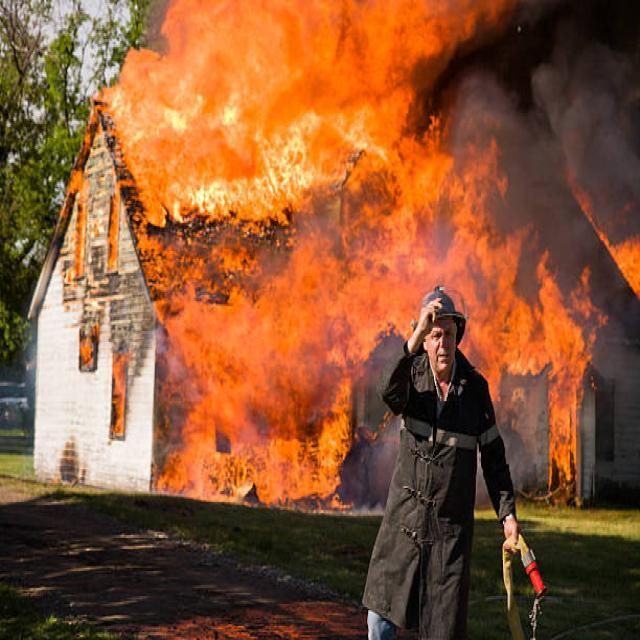Fire: (145, 0, 444, 214), (182, 208, 358, 499), (463, 28, 640, 284), (368, 177, 534, 304), (510, 260, 600, 447)
